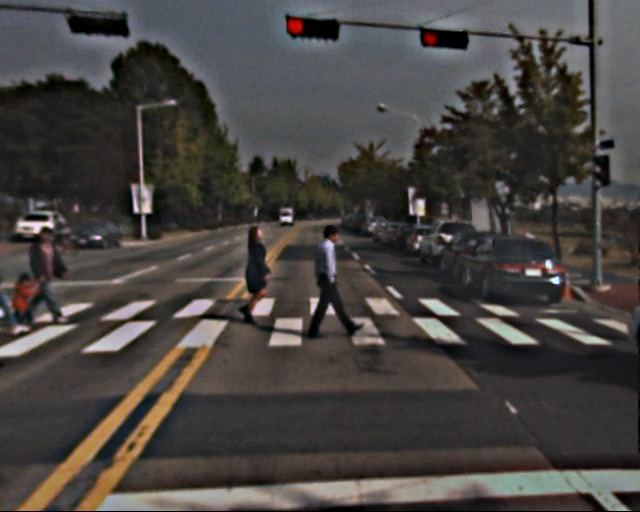person: (1, 226, 72, 330), (308, 224, 355, 339), (236, 226, 275, 321)
